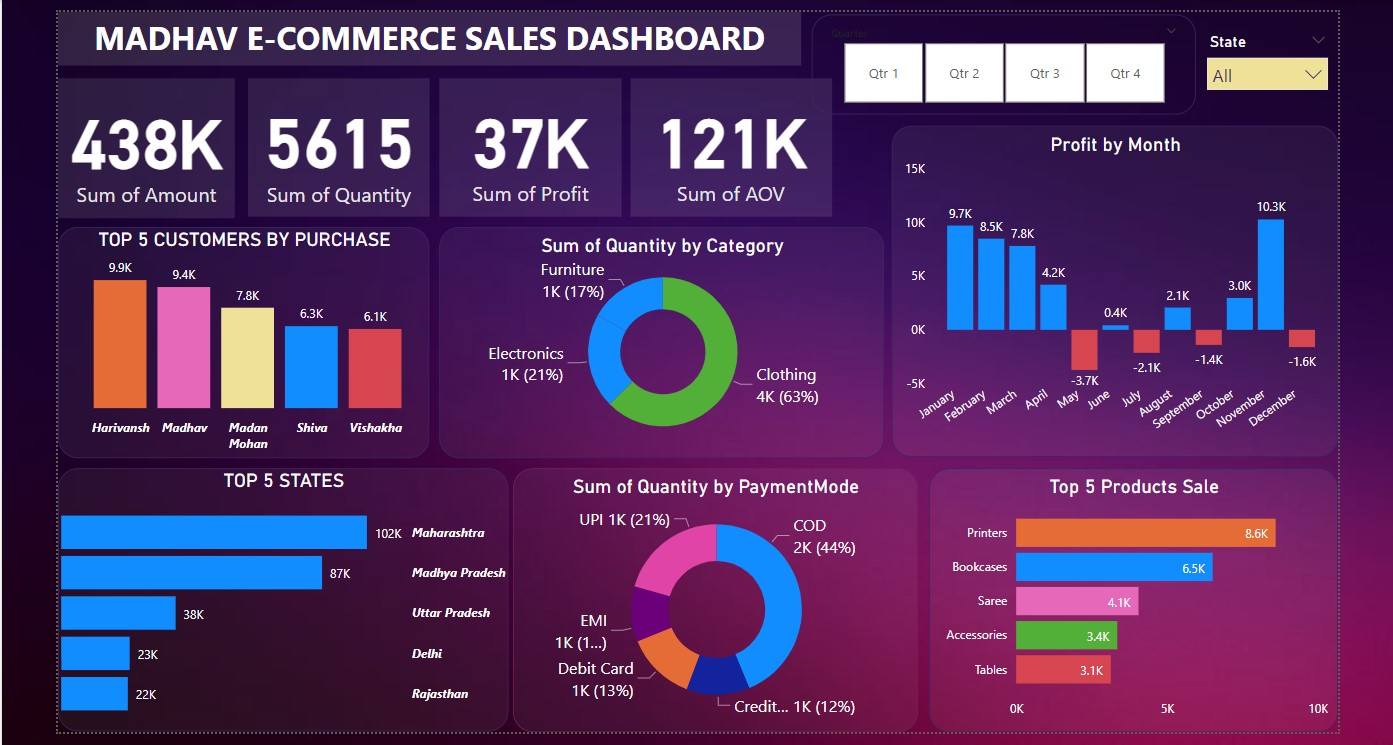

What the dashboard file says about the page in this screenshot:
{"tool":"powerbi","page":{"name":"Page 1","canvas":[1280,720],"ordinal":0},"visuals":[{"type":"textbox","box":[0,0,743.3,53.3],"z":0},{"type":"columnChart","title":"Profit by Month","fields":{"Category":["Orders.Order Date.Variation.Date Hierarchy.Month"],"Y":["Details.Profit"]},"box":[833.8,113.8,446.2,331.2],"z":1000},{"type":"barChart","title":"Top 5 Products Sale","fields":{"Category":["Details.Sub-Category"],"Y":["Details.Profit"]},"box":[871.2,456.2,408.8,263.8],"z":2000},{"type":"donutChart","fields":{"Category":["Details.Category"],"Y":["Details.Quantity"]},"box":[381.2,215,445,231.2],"z":3000},{"type":"donutChart","fields":{"Y":["Details.Quantity"],"Series":["Details.PaymentMode"]},"box":[455,456.2,405,263.8],"z":4000},{"type":"card","fields":{"Values":["Details.Amount"]},"box":[0,66.7,176.7,140],"z":5000},{"type":"card","fields":{"Values":["Details.Quantity"]},"box":[190,66.7,181.7,138.3],"z":6000},{"type":"card","fields":{"Values":["Details.Profit"]},"box":[381.2,66.2,182.5,138.8],"z":7000},{"type":"card","fields":{"Values":["Details.AOV"]},"box":[572.5,66.2,201.2,138.8],"z":8000},{"type":"clusteredBarChart","title":"TOP 5 STATES","fields":{"Category":["Orders.State"],"Y":["Details.Amount"]},"box":[0,456.7,450,263.3],"z":9000},{"type":"clusteredColumnChart","title":"TOP 5 CUSTOMERS BY PURCHASE","fields":{"Category":["Orders.CustomerName"],"Y":["Details.Amount"]},"box":[0,215,371.2,231.2],"z":10000},{"type":"slicer","fields":{"Values":["Orders.Order Date.Variation.Date Hierarchy.Quarter"]},"box":[753.8,2.5,383.8,100],"z":11000},{"type":"slicer","fields":{"Values":["Orders.State"]},"box":[1138.8,16.2,141.2,72.5],"z":12000}]}

Visuals, with their boxes on the page's 1280x720 design canvas (x1, y1, x2, y2). These are canvas units, not pixel positions in the 1393x745 screenshot, which may show the page scaled, cropped or inside an application window:
textbox: <box>0,0,743,53</box>
"Profit by Month" columnChart: <box>834,114,1280,445</box>
"Top 5 Products Sale" barChart: <box>871,456,1280,720</box>
donutChart - Details.Category x Details.Quantity: <box>381,215,826,446</box>
donutChart - Details.Quantity x Details.PaymentMode: <box>455,456,860,720</box>
card - Details.Amount: <box>0,67,177,207</box>
card - Details.Quantity: <box>190,67,372,205</box>
card - Details.Profit: <box>381,66,564,205</box>
card - Details.AOV: <box>572,66,774,205</box>
"TOP 5 STATES" clusteredBarChart: <box>0,457,450,720</box>
"TOP 5 CUSTOMERS BY PURCHASE" clusteredColumnChart: <box>0,215,371,446</box>
slicer - Orders.Order Date.Variation.Date Hierarchy.Quarter: <box>754,2,1138,102</box>
slicer - Orders.State: <box>1139,16,1280,89</box>
